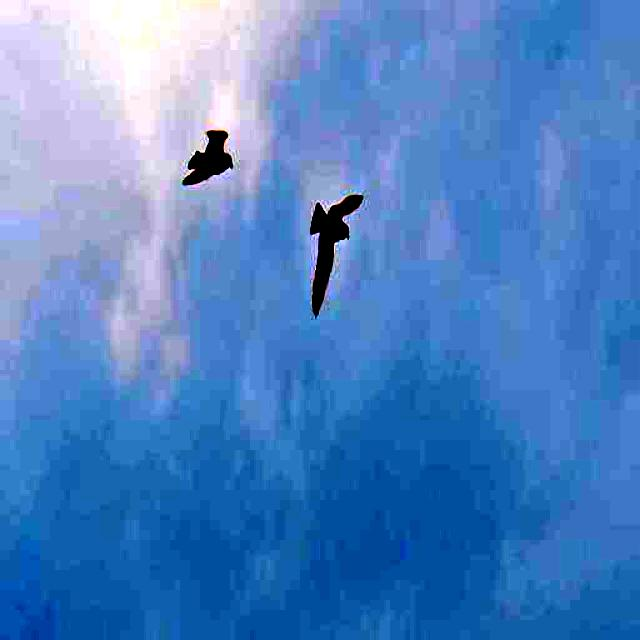airplane: (296, 165, 372, 341), (178, 119, 240, 215)
